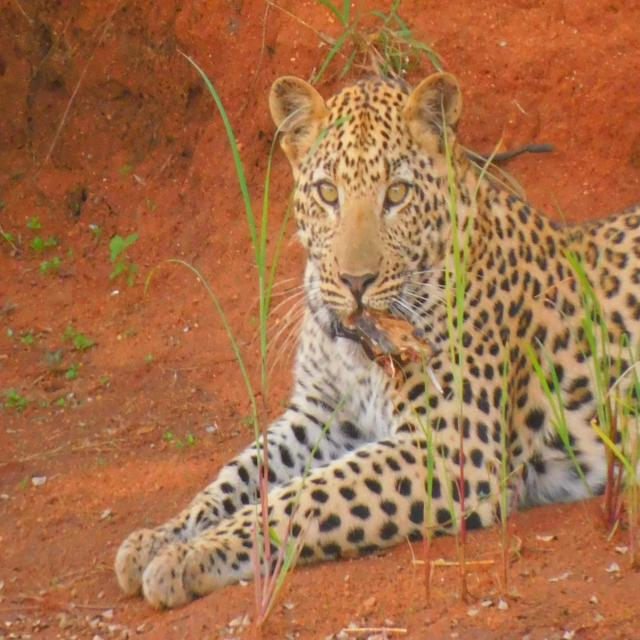Leopard: (108, 51, 640, 615)
